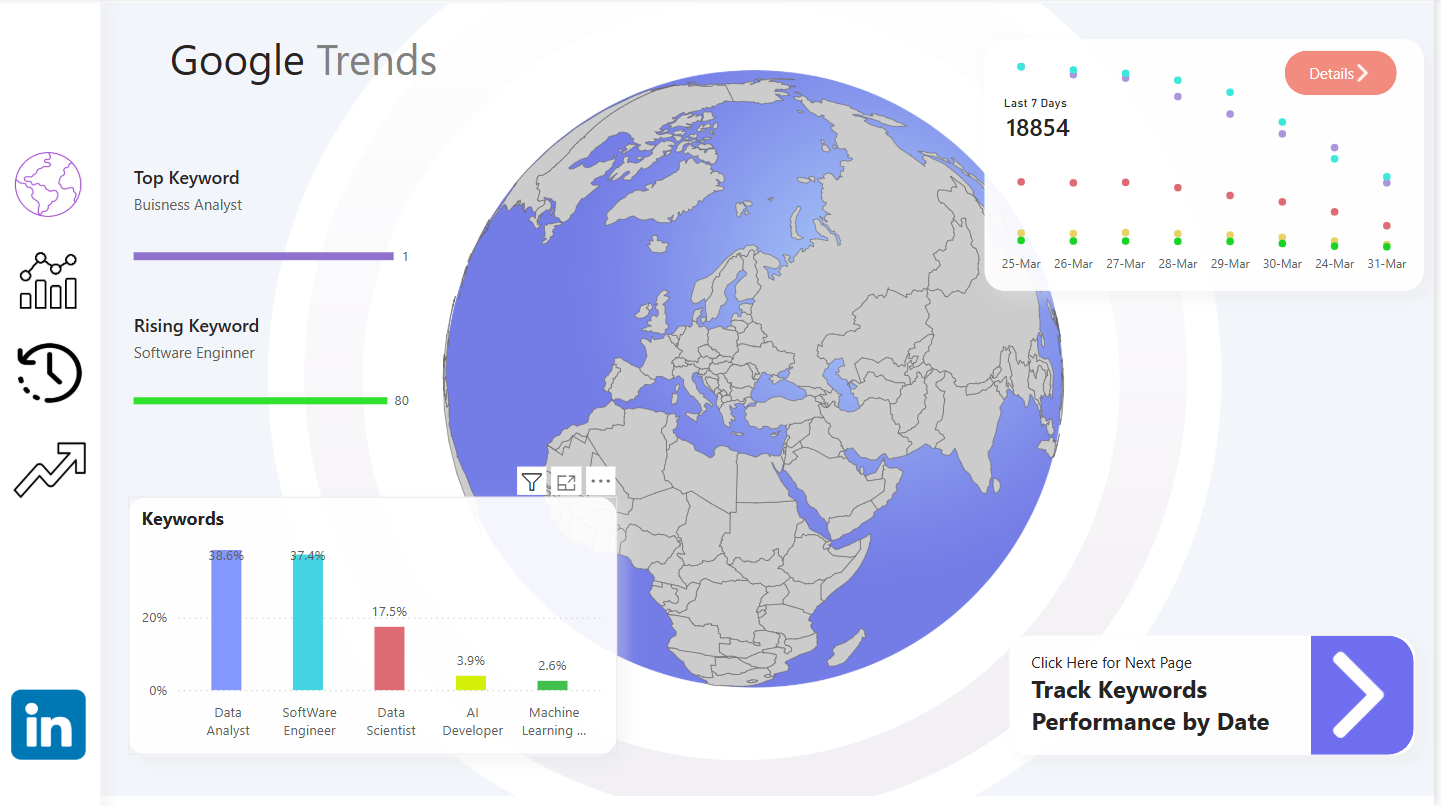

What the dashboard file says about the page in this screenshot:
{"tool":"powerbi","page":{"name":"OverView","canvas":[1280,720],"ordinal":0},"visuals":[{"type":"shapeMap","fields":{"Category":["Country_API.Country"]},"box":[201.5,36.2,944.6,611.7],"z":1000},{"type":"shape","box":[0,0,91.7,720.2],"z":2000},{"type":"shape","box":[901.2,568.2,360.7,106.2],"z":3000},{"type":"actionButton","box":[1170.2,568.2,91.7,106.2],"z":4000},{"type":"clusteredColumnChart","title":"Keywords","fields":{"Y":["Country_Measures.Country_Value"],"Category":["Country_API.Keywords"]},"box":[116.9,444.2,435.3,230.4],"z":5000},{"type":"lineChart","fields":{"Series":["Past_7_days_search.Keywords"],"Y":["Past_7_days_search.Last_7_days_Value"],"Category":["Past_7_days_search.New_Date"]},"box":[879.5,36.2,390.9,224.4],"z":6000},{"type":"actionButton","box":[1146.1,47.1,100.1,39.8],"z":7000},{"type":"card","title":"Last 7 Days","fields":{"Values":["Past_7_days_search.Last_7_days_Value"]},"box":[891.6,86.9,71.2,45.8],"z":8000},{"type":"textbox","box":[915.7,559.8,254.6,106.2],"z":9000},{"type":"textbox","box":[149.6,22.9,269,63.9],"z":10000},{"type":"image","box":[8.4,298,76,71.2],"z":11000},{"type":"image","box":[15.7,222,60.3,60.3],"z":12000},{"type":"image","box":[10.9,132.7,68.8,67.6],"z":13000},{"type":"image","box":[8.4,378.8,76,84.5],"z":14000},{"type":"image","box":[7.2,611.7,76,72.4],"z":15000},{"type":"barChart","title":"Rising Keyword ","fields":{"Category":["Rising_Keywords.Title"],"Y":["Sum(Rising_Keywords.Value)"]},"box":[116.6,279.9,255.2,107],"z":16000},{"type":"barChart","title":"Top Keyword ","fields":{"Category":["Top_Keywords.Title"],"Y":["CountNonNull(Top_Keywords.Value)"]},"box":[116.6,148.2,255.2,112.5],"z":17000}]}

Visuals, with their boxes in screenshot pixels (x1, y1, x2, y2), scaled from the page's 1280x720 canvas onto the 1441x806 screenshot:
shapeMap - Country_API.Country: [227, 41, 1290, 725]
shape: [0, 0, 103, 805]
shape: [1015, 636, 1421, 755]
actionButton: [1317, 636, 1421, 755]
"Keywords" clusteredColumnChart: [132, 497, 622, 755]
lineChart - Past_7_days_search.Keywords x Past_7_days_search.Last_7_days_Value: [990, 41, 1430, 292]
actionButton: [1290, 53, 1403, 97]
"Last 7 Days" card: [1004, 97, 1084, 149]
textbox: [1031, 627, 1318, 746]
textbox: [168, 26, 471, 97]
image: [9, 334, 95, 413]
image: [18, 249, 86, 316]
image: [12, 149, 90, 224]
image: [9, 424, 95, 519]
image: [8, 685, 94, 766]
"Rising Keyword " barChart: [131, 313, 419, 433]
"Top Keyword " barChart: [131, 166, 419, 292]
